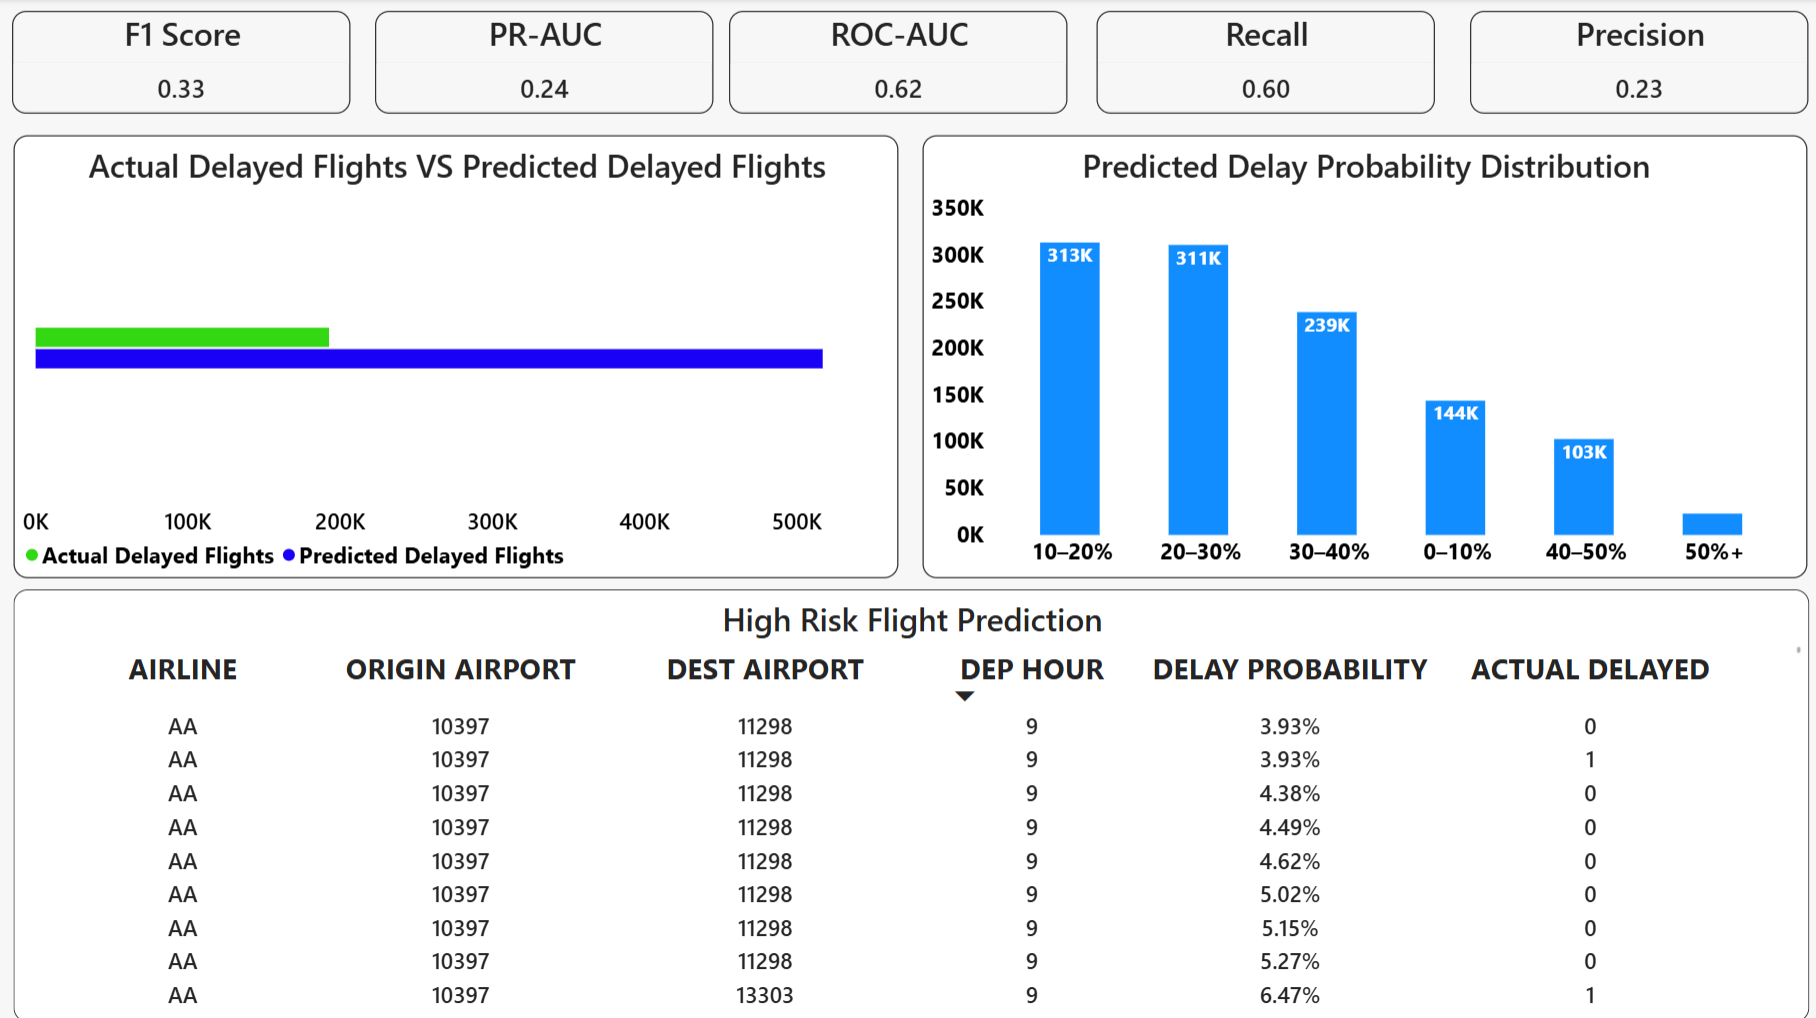

What the dashboard file says about the page in this screenshot:
{"tool":"powerbi","page":{"name":"Flight Delay Prediction ","canvas":[3840,2160],"ordinal":0},"visuals":[{"type":"cardVisual","title":"F1 Score","fields":{"Data":["Table.F1 Score"]},"box":[25.4,25.4,714.1,217.5],"z":0},{"type":"cardVisual","title":"PR-AUC","fields":{"Data":["Table.PR-AUC"]},"box":[790.2,25.4,714.1,217.5],"z":1},{"type":"cardVisual","title":"Precision","fields":{"Data":["Table.Precision"]},"box":[3099.3,25.4,714.1,217.5],"z":2},{"type":"cardVisual","title":"Recall","fields":{"Data":["Table.Recall"]},"box":[2312.7,25.4,714.1,217.5],"z":3},{"type":"cardVisual","title":"ROC-AUC","fields":{"Data":["Table.ROC-AUC"]},"box":[1537,25.4,714.1,217.5],"z":4},{"type":"clusteredBarChart","title":"Actual Delayed Flights VS Predicted Delayed Flights","fields":{"Y":["Table.Actual Delayed Flights","Table.Predicted Delayed Flights"]},"box":[29,286.4,1866.8,935.2],"z":5},{"type":"clusteredColumnChart","title":"Predicted Delay Probability Distribution","fields":{"Category":["airintel_predictions.Probability Band"],"Y":["CountNonNull(airintel_predictions.Probability Band)"]},"box":[1946.6,286.4,1866.8,935.2],"z":7},{"type":"tableEx","title":"High Risk Flight Prediction","fields":{"Values":["airintel_predictions.AIRLINE","airintel_predictions.ORIGIN_AIRPORT","airintel_predictions.DESTINATION_AIRPORT","airintel_predictions.DEP_HOUR","airintel_predictions.DELAY_PROBABILITY","airintel_predictions.ACTUAL_DELAYED"]},"box":[29,1247,3788.1,913.5],"z":8}]}

Visuals, with their boxes in screenshot pixels (x1, y1, x2, y2), scaled from the page's 3840x2160 canvas onto the 1816x1018 screenshot:
"F1 Score" cardVisual: bbox=[12, 12, 350, 114]
"PR-AUC" cardVisual: bbox=[374, 12, 711, 114]
"Precision" cardVisual: bbox=[1466, 12, 1803, 114]
"Recall" cardVisual: bbox=[1094, 12, 1431, 114]
"ROC-AUC" cardVisual: bbox=[727, 12, 1065, 114]
"Actual Delayed Flights VS Predicted Delayed Flights" clusteredBarChart: bbox=[14, 135, 897, 576]
"Predicted Delay Probability Distribution" clusteredColumnChart: bbox=[921, 135, 1803, 576]
"High Risk Flight Prediction" tableEx: bbox=[14, 588, 1805, 1017]
